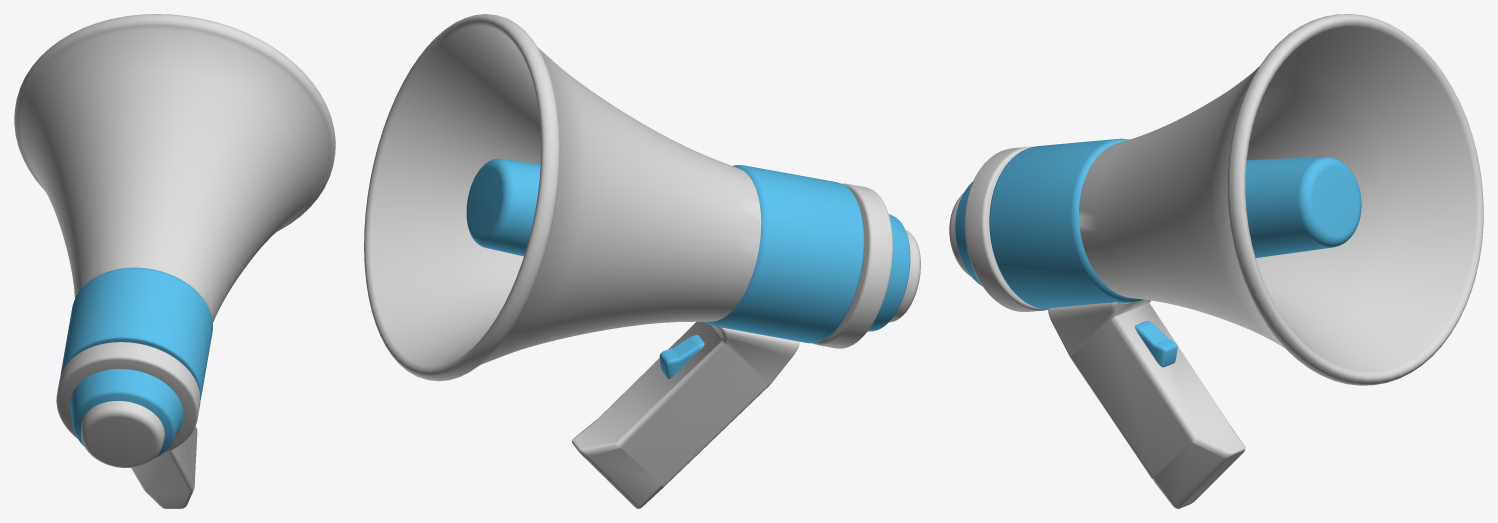
Rendered from business-en-media.glb.
3 renders of one model, left to right at view 1: azimuth 30°, elevation 25°; view 2: azimuth 150°, elevation 25°; view 3: azimuth 270°, elevation 25°, orthographic. The views are drawn at different scales.
Visible parts, largest first — view 1: megaphone/glass, megaphone/color, bottom/glass; view 2: megaphone/glass, megaphone/color, bottom/glass, megaphone-inside/color, switch/color; view 3: megaphone/glass, bottom/glass, megaphone/color, megaphone-inside/color, switch/color.
Part boxes in pixels (left/top/right/bottom): megaphone/glass: left=14, top=14, right=335, bottom=467; megaphone/color: left=60, top=267, right=212, bottom=458; bottom/glass: left=131, top=426, right=197, bottom=508; megaphone/glass: left=364, top=14, right=920, bottom=381; megaphone/color: left=704, top=165, right=910, bottom=343; bottom/glass: left=572, top=321, right=799, bottom=508; megaphone-inside/color: left=466, top=158, right=540, bottom=256; switch/color: left=659, top=335, right=704, bottom=378; megaphone/glass: left=949, top=14, right=1483, bottom=385; bottom/glass: left=1048, top=299, right=1245, bottom=508; megaphone/color: left=955, top=138, right=1143, bottom=309; megaphone-inside/color: left=1245, top=157, right=1361, bottom=257; switch/color: left=1135, top=321, right=1177, bottom=367.
Bounding box in the file's own units: 2.14 × 2.5 × 2.38.
